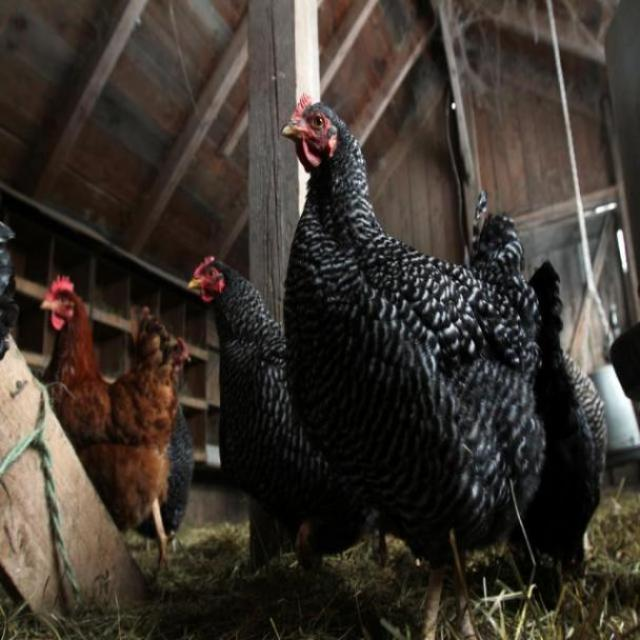Chicken: (281, 90, 543, 639), (189, 255, 382, 559), (44, 276, 185, 570), (527, 261, 608, 593)
